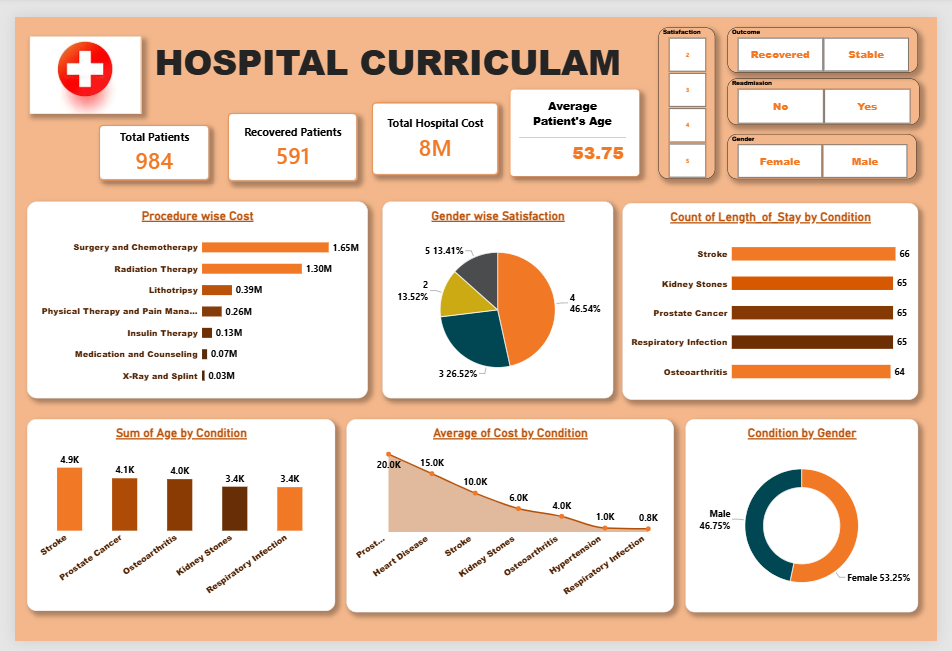

The page's visual inventory and layout, read from the dashboard file:
{"tool":"powerbi","page":{"name":"Page 1","canvas":[1920,1299],"ordinal":0},"visuals":[{"type":"donutChart","title":"Condition by Gender","fields":{"Category":["hospital data analysis.Gender"],"Y":["CountNonNull(hospital data analysis.Condition)"]},"box":[1396.8,838.7,484.6,402.6],"z":0},{"type":"columnChart","fields":{"Category":["hospital data analysis.Condition"],"Y":["Sum(hospital data analysis.Age)"]},"box":[25.8,838.7,641.9,400],"z":1},{"type":"areaChart","fields":{"Category":["hospital data analysis.Condition"],"Y":["Avg(hospital data analysis.Cost)"]},"box":[690.3,838.7,682.1,402.6],"z":2},{"type":"clusteredBarChart","title":"Procedure wise Cost","fields":{"Category":["hospital data analysis.Procedure"],"Y":["Sum(hospital data analysis.Cost)"]},"box":[25.8,383.9,709.7,409.7],"z":3},{"type":"pieChart","title":"Gender wise Satisfaction","fields":{"Category":["hospital data analysis.Satisfaction"],"Y":["CountNonNull(hospital data analysis.Gender)"]},"box":[764.5,383.9,480.6,409.7],"z":4},{"type":"clusteredBarChart","fields":{"Category":["hospital data analysis.Condition"],"Y":["CountNonNull(hospital data analysis.Length_of_Stay)"]},"box":[1264.5,387.1,616.1,409.7],"z":5},{"type":"slicer","fields":{"Values":["hospital data analysis.Gender"]},"box":[1484.8,242.4,393.9,93.9],"z":6},{"type":"slicer","fields":{"Values":["hospital data analysis.Satisfaction"]},"box":[1339.4,21.2,118.2,315.2],"z":7},{"type":"slicer","fields":{"Values":["hospital data analysis.Readmission"]},"box":[1484.8,127.3,400,97],"z":8},{"type":"slicer","fields":{"Values":["hospital data analysis.Outcome"]},"box":[1484.8,21.2,397,93.9],"z":9},{"type":"image","box":[27.3,39.4,236.4,160.6],"z":10},{"type":"textbox","box":[290.9,39.4,1003,136.4],"z":11},{"type":"cardVisual","fields":{"Data":["hospital data analysis.Total Patients"]},"box":[175.8,224.2,230.3,115.2],"z":12},{"type":"cardVisual","fields":{"Data":["hospital data analysis.Total Hospital Cost"]},"box":[742.4,178.8,263.6,151.5],"z":13},{"type":"cardVisual","fields":{"Data":["hospital data analysis.Recovered Patients"]},"box":[442.4,200,269.7,142.4],"z":14},{"type":"tableEx","fields":{"Values":["hospital data analysis.Average Age"]},"box":[1030.3,148.5,269.7,181.8],"z":15}]}

Visuals, with their boxes in screenshot pixels (x1, y1, x2, y2), scaled from the page's 1920x1299 canvas onto the 952x651 screenshot:
"Condition by Gender" donutChart: pyautogui.locateOnScreen(693, 420, 933, 622)
columnChart - hospital data analysis.Condition x Sum(hospital data analysis.Age): pyautogui.locateOnScreen(13, 420, 331, 621)
areaChart - hospital data analysis.Condition x Avg(hospital data analysis.Cost): pyautogui.locateOnScreen(342, 420, 680, 622)
"Procedure wise Cost" clusteredBarChart: pyautogui.locateOnScreen(13, 192, 365, 398)
"Gender wise Satisfaction" pieChart: pyautogui.locateOnScreen(379, 192, 617, 398)
clusteredBarChart - hospital data analysis.Condition x CountNonNull(hospital data analysis.Length_of_Stay): pyautogui.locateOnScreen(627, 194, 932, 399)
slicer - hospital data analysis.Gender: pyautogui.locateOnScreen(736, 121, 932, 169)
slicer - hospital data analysis.Satisfaction: pyautogui.locateOnScreen(664, 11, 723, 169)
slicer - hospital data analysis.Readmission: pyautogui.locateOnScreen(736, 64, 935, 112)
slicer - hospital data analysis.Outcome: pyautogui.locateOnScreen(736, 11, 933, 58)
image: pyautogui.locateOnScreen(14, 20, 131, 100)
textbox: pyautogui.locateOnScreen(144, 20, 642, 88)
cardVisual - hospital data analysis.Total Patients: pyautogui.locateOnScreen(87, 112, 201, 170)
cardVisual - hospital data analysis.Total Hospital Cost: pyautogui.locateOnScreen(368, 90, 499, 166)
cardVisual - hospital data analysis.Recovered Patients: pyautogui.locateOnScreen(219, 100, 353, 172)
tableEx - hospital data analysis.Average Age: pyautogui.locateOnScreen(511, 74, 645, 166)
